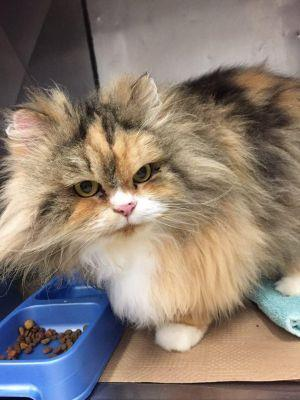persian: (6, 68, 193, 264)
